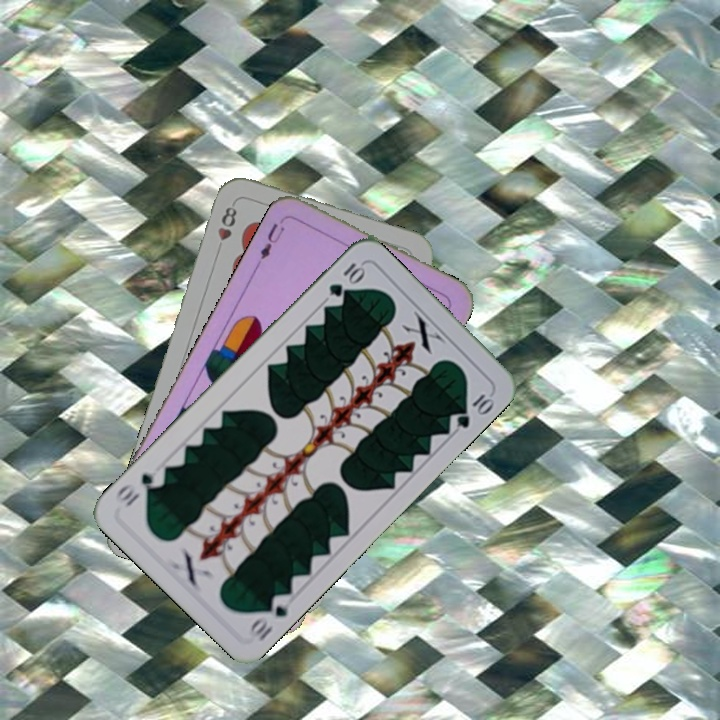EU: (256, 213, 290, 262)
G10: (243, 589, 295, 644), (324, 258, 368, 300)
H8: (213, 202, 240, 244)
